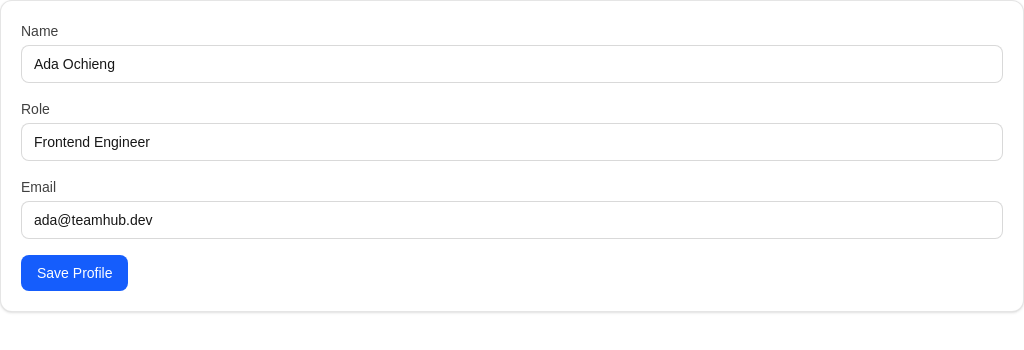
Test: EditProfileForm › shows error for empty name
Clear the field labelled "Name" at coordinates (512, 64), box [21,45,1003,83]
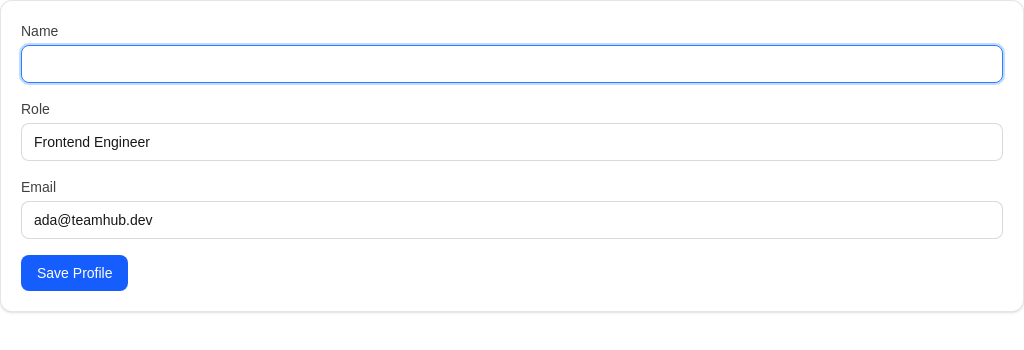
Click the button "Save Profile" at coordinates (75, 273), box [21,255,128,291]
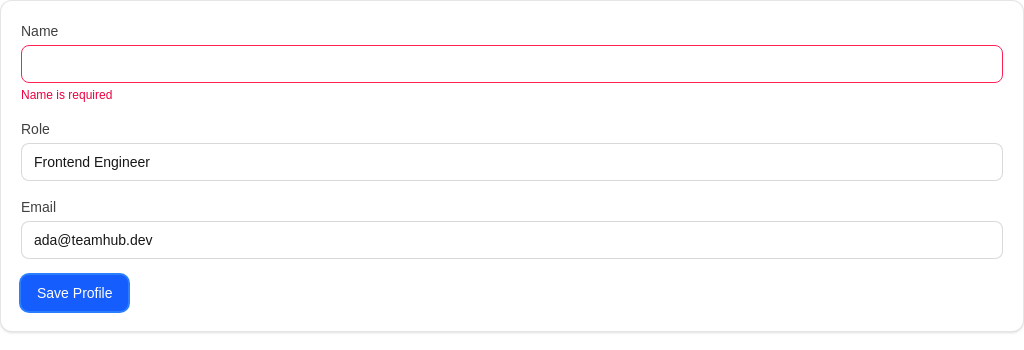
Expected: the text "Name is required" is shown, [21,88,112,102]
